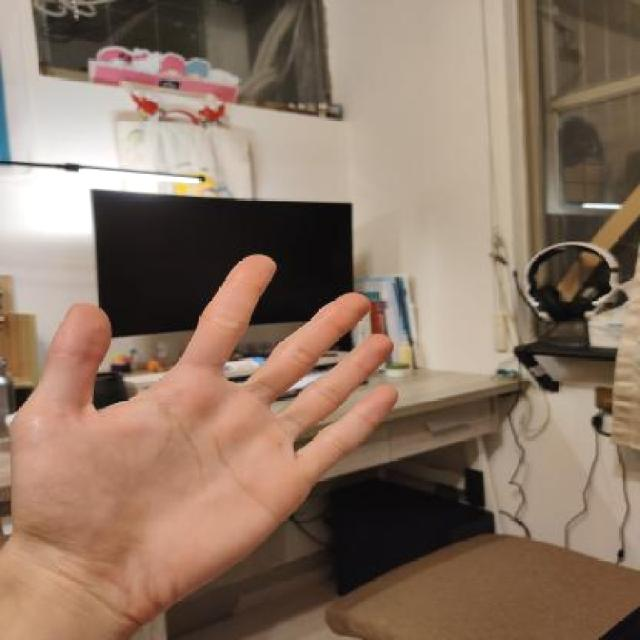no_glove: (2, 244, 416, 638)
